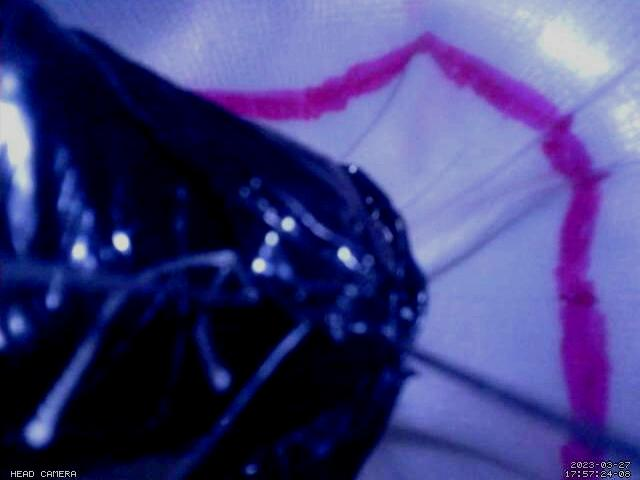red-circle: (189, 30, 611, 480)
